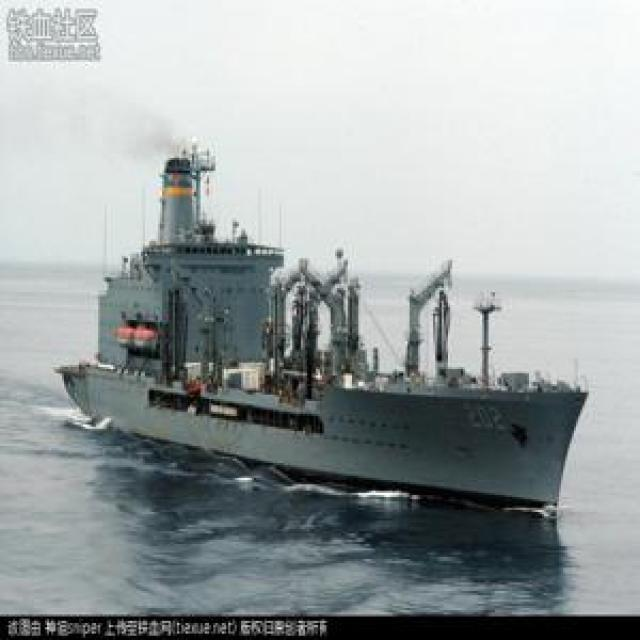navalvessels: (61, 154, 574, 542)
